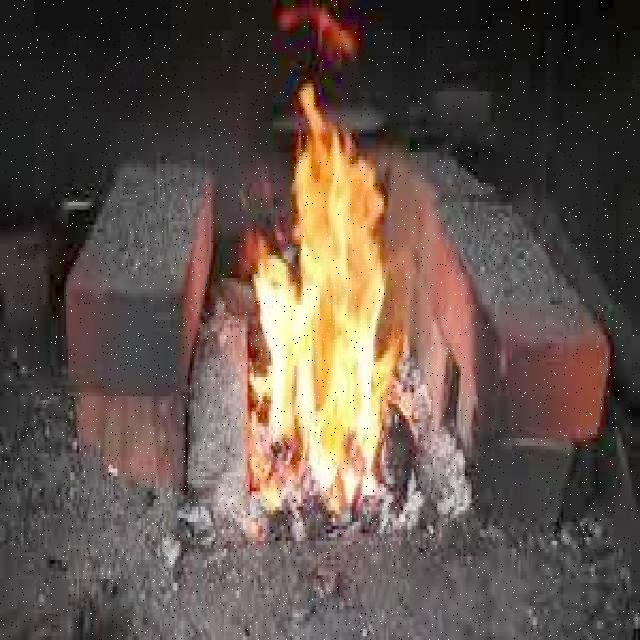fire: (259, 97, 388, 506)
